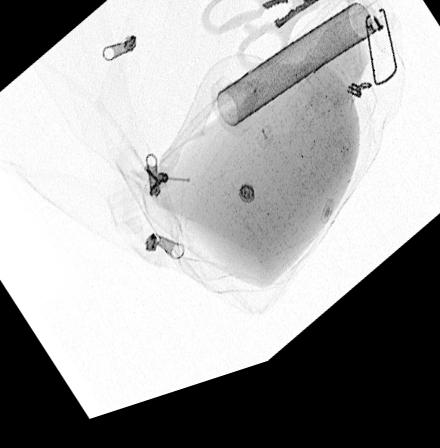Scissors: (200, 0, 357, 92)
